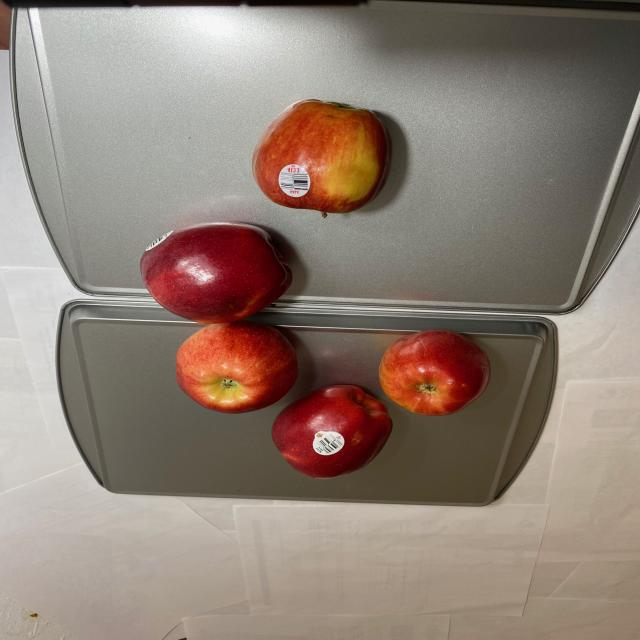Apple: (135, 223, 492, 479), (252, 95, 400, 219)
